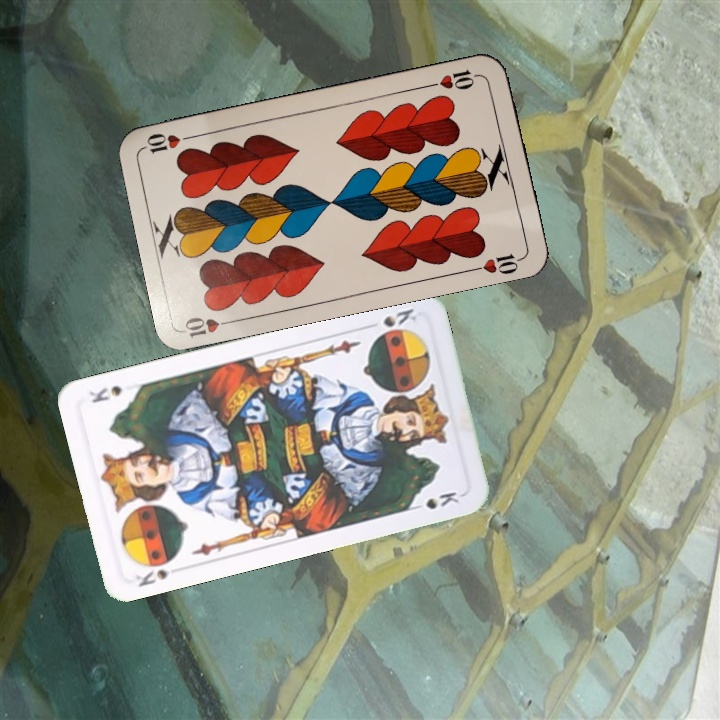H10: (425, 65, 484, 93), (180, 313, 239, 340)
SK: (374, 304, 419, 338), (131, 565, 171, 590)
